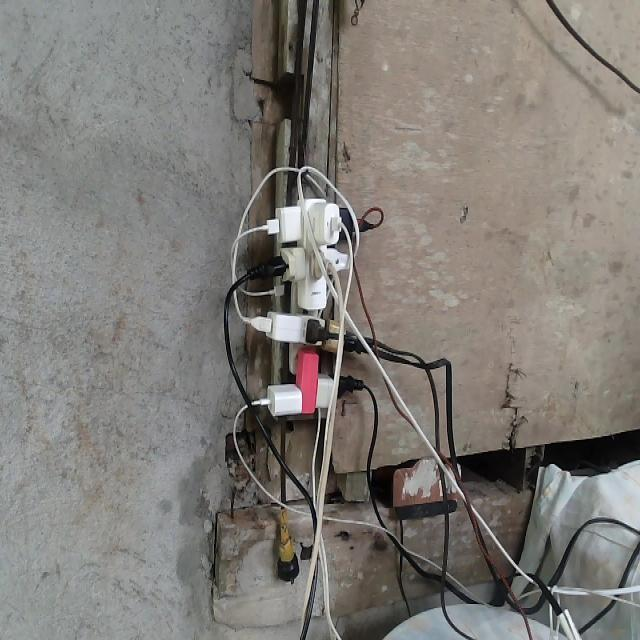-: (224, 139, 399, 420)
